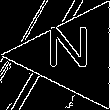N_S: (50, 30, 96, 80)
